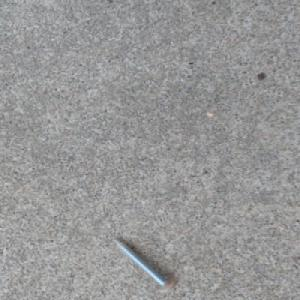Screw: (111, 237, 178, 293)
